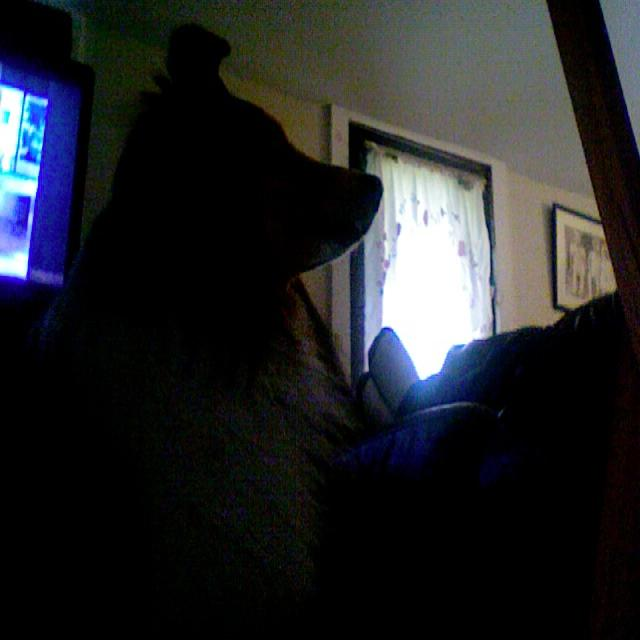Dog: (48, 0, 482, 570)
